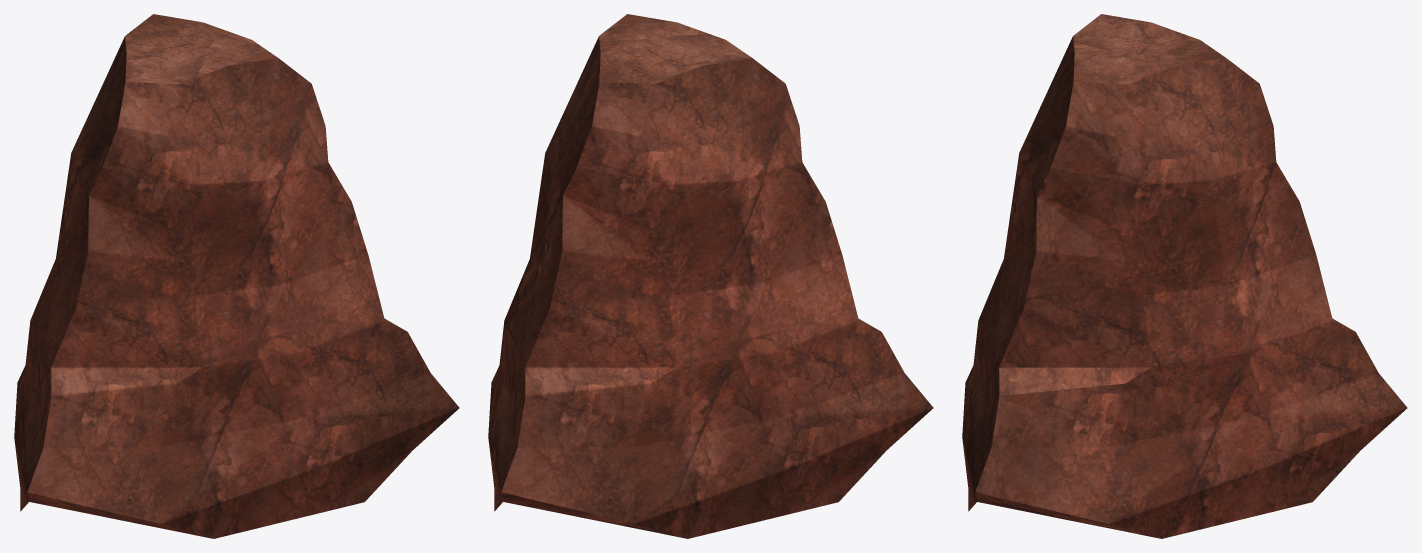
Rendered from triangle-rock.glb.
3 renders of one model, left to right at view 1: azimuth 30°, elevation 25°; view 2: azimuth 150°, elevation 25°; view 3: azimuth 270°, elevation 25°, orthographic.
Visible parts, largest first — view 1: trirock-convcol; view 2: trirock-convcol; view 3: trirock-convcol.
Boxes of the visible parts, left/top/right/bottom form: trirock-convcol: left=14, top=14, right=459, bottom=538; trirock-convcol: left=488, top=14, right=933, bottom=538; trirock-convcol: left=962, top=14, right=1407, bottom=538.
Size of the model in its own units: 3.74 by 3.64 by 3.51.
Materials: 1 (1 with a texture image).
